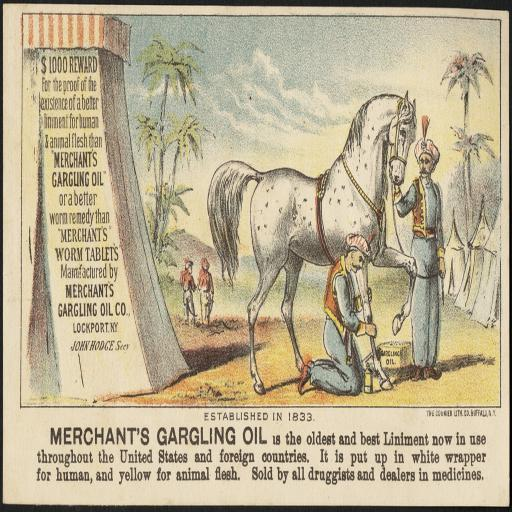horse: (206, 88, 418, 398)
